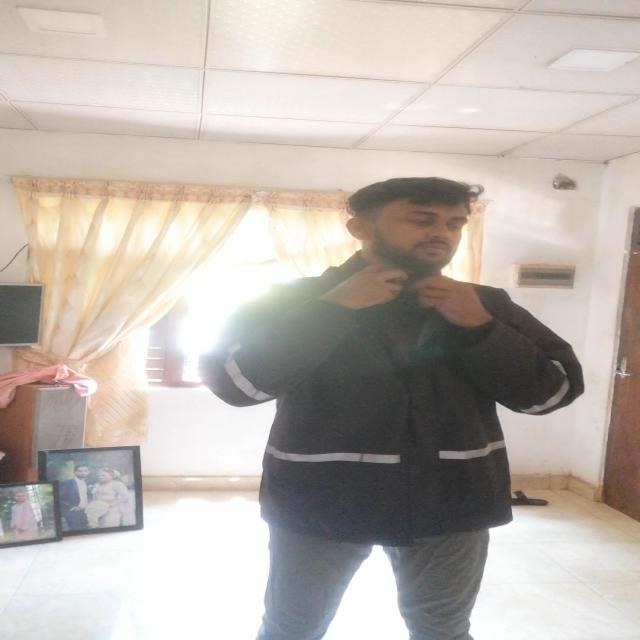Jacket_Wearer: (212, 258, 588, 544)
Person: (206, 176, 584, 640)
